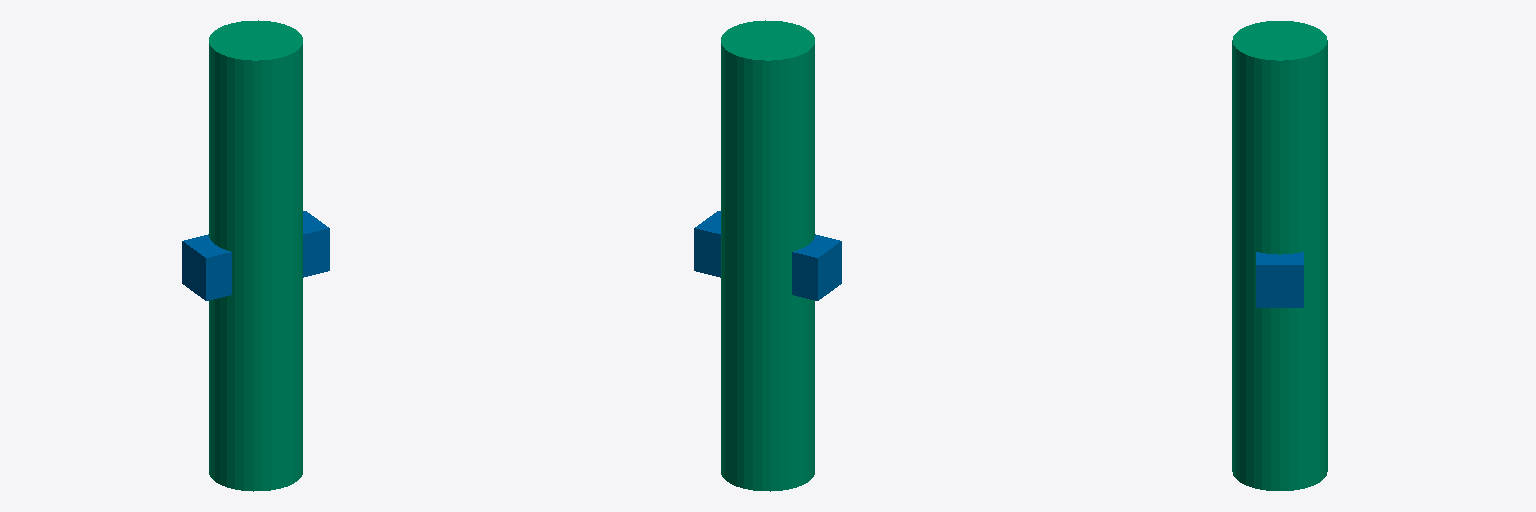
The robot description file, URDF, robot "box":
<?xml version="1.0" ?>
<!-- =================================================================================== -->
<!-- |    This document was autogenerated by xacro from box.urdf.xacro                 | -->
<!-- |    EDITING THIS FILE BY HAND IS NOT RECOMMENDED                                 | -->
<!-- =================================================================================== -->
<robot name="box">
  <link name="box_base_link">

</link>
  <joint name="box_center_joint" type="fixed">
    <parent link="box_base_link"/>
    <child link="box_center_link"/>
    <origin rpy="0 0 0" xyz="0.075 0.024999999999999994 0.04"/>
  </joint>
  <link name="box_center_link">
    <visual>
      <origin rpy="0 0 0" xyz="0 0 0"/>
      <geometry>
        <mesh filename="package://box_urdf/meshes/box.stl"/>
      </geometry>
    </visual>
    <collision>
      <origin rpy="0 0 0" xyz="0 0 0"/>
      <geometry>
        <box size="0.15 0.25 0.08"/>
      </geometry>
    </collision>
  </link>
  <!-- Buttons -->
  <joint name="box_button_blue_joint" type="fixed">
    <parent link="box_base_link"/>
    <child link="box_button_blue"/>
    <origin rpy="0 0 0" xyz="0 0 0.08"/>
  </joint>
  <link name="box_button_blue">
    <visual>
      <origin rpy="0 0 0" xyz="0 0 0"/>
      <geometry>
        <cylinder length="0.1" radius="0.01"/>
      </geometry>
    </visual>
  </link>
  <joint name="box_button_red_joint" type="fixed">
    <parent link="box_base_link"/>
    <child link="box_button_red"/>
    <origin rpy="0 0 0" xyz="0 0 0.08"/>
  </joint>
  <link name="box_button_red">
    <visual>
      <origin rpy="0 0 0" xyz="0 0 0"/>
      <geometry>
        <cylinder length="0.1" radius="0.01"/>
      </geometry>
    </visual>
  </link>
  <!-- Slider -->
  <joint name="box_slider_joint" type="fixed">
    <parent link="box_base_link"/>
    <child link="box_slider"/>
    <origin rpy="0 0 0" xyz="0 0 0.08"/>
  </joint>
  <link name="box_slider">
    <visual>
      <origin rpy="0 0 0" xyz="0 0 0"/>
      <geometry>
        <box size="0.03 0.01 0.01"/>
      </geometry>
    </visual>
  </link>
</robot>

--- Render facts (derived) ---
The picture shows the robot from 3 angles, left to right: view 1: azimuth 30°, elevation 25°; view 2: azimuth 150°, elevation 25°; view 3: azimuth 270°, elevation 25°; orthographic projection.
Robot: box — 5 links, 4 joints (4 fixed); root link box_base_link; default pose: every joint at zero.
Visible links, largest first — view 1: box_button_blue, box_slider; view 2: box_button_blue, box_slider; view 3: box_button_blue, box_slider.
Boxes of the visible links, bbox=[...] form: box_button_blue: bbox=[209, 20, 302, 491]; box_slider: bbox=[182, 211, 329, 300]; box_button_blue: bbox=[721, 20, 814, 491]; box_slider: bbox=[694, 211, 841, 300]; box_button_blue: bbox=[1232, 21, 1327, 490]; box_slider: bbox=[1256, 252, 1303, 307].
Size in the robot's own frame: 0.03 by 0.02 by 0.1 metres.
0 mesh visuals loaded from 1 distinct referenced files (none loaded); not drawn: 1 (reference not matched to a file when rendering).